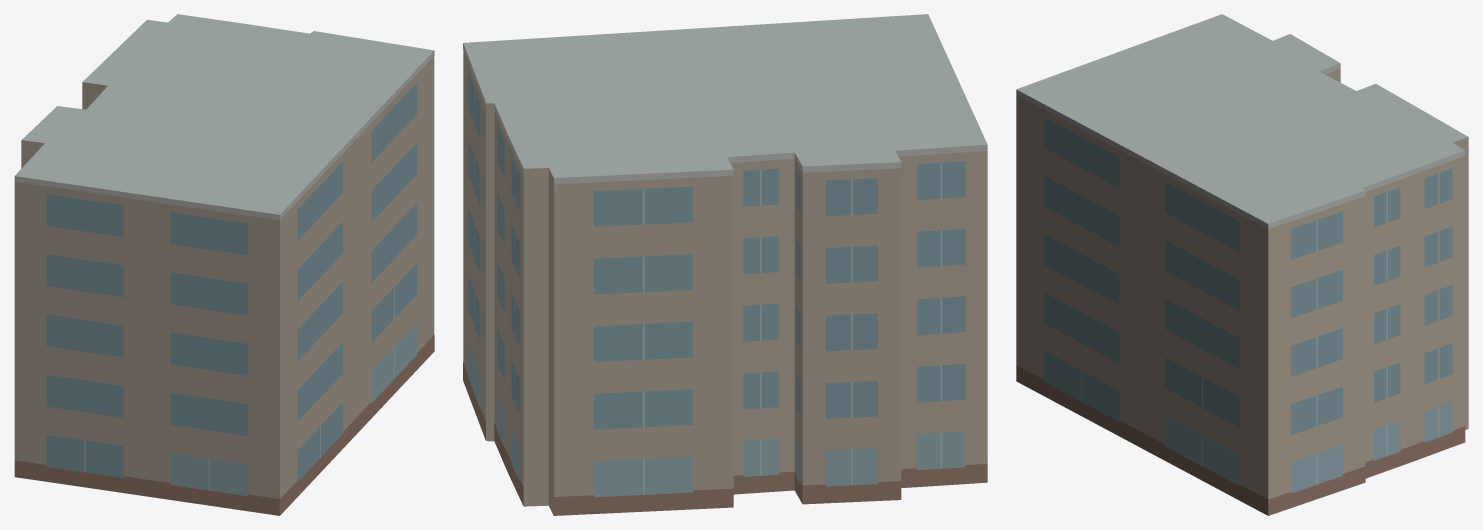
Rendered from survey-upis-32814087.glb.
The picture shows the model from 3 angles, left to right: view 1: azimuth 30°, elevation 25°; view 2: azimuth 150°, elevation 25°; view 3: azimuth 270°, elevation 25°; orthographic projection. The views are drawn at different scales.
Parts seen in each view (by area): view 1: survey-upis-32814087.tmp; view 2: survey-upis-32814087.tmp; view 3: survey-upis-32814087.tmp.
Part boxes in pixels (bbox=[...]): survey-upis-32814087.tmp: bbox=[14, 14, 434, 515]; survey-upis-32814087.tmp: bbox=[463, 14, 987, 515]; survey-upis-32814087.tmp: bbox=[1016, 14, 1468, 515].
Bounding box in the file's own units: 20.52 × 13.3 × 18.69.
